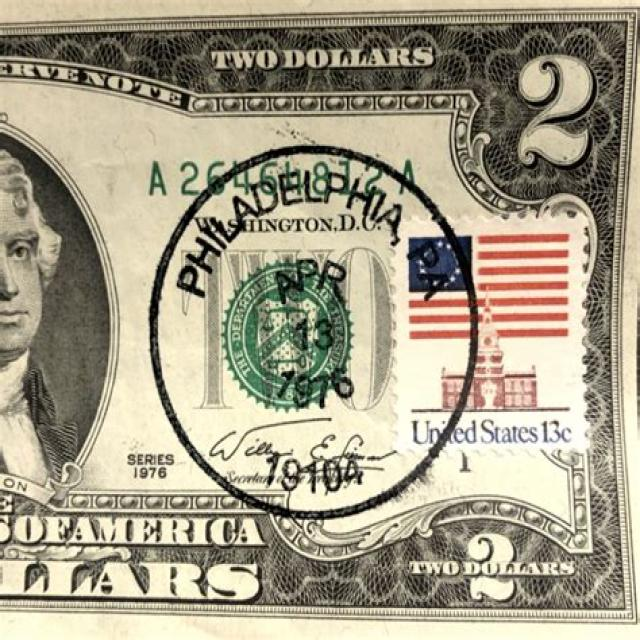Two: (0, 2, 639, 640)
